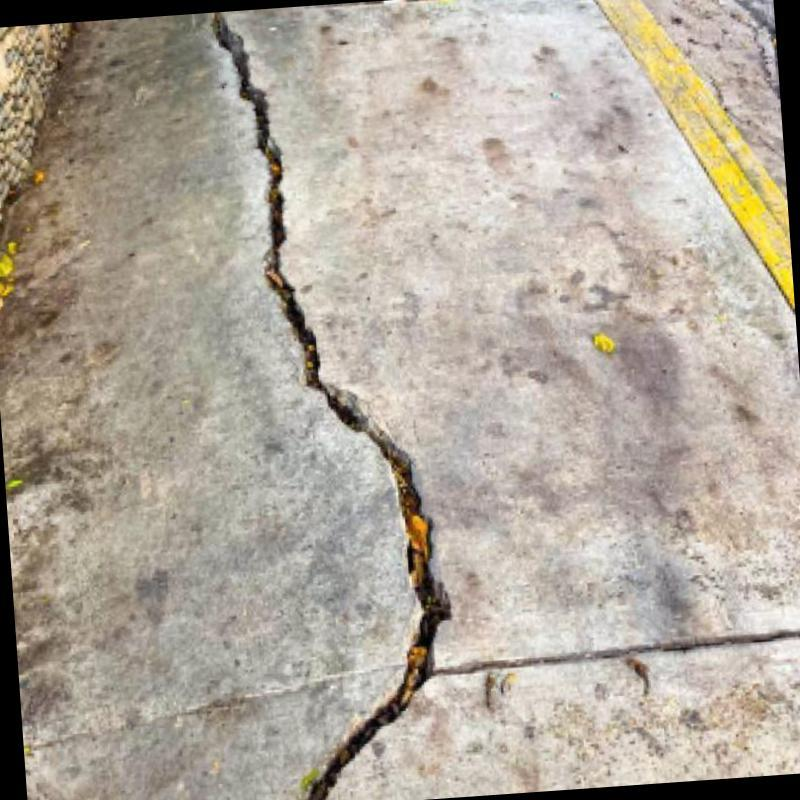pothole: (214, 12, 449, 800)
